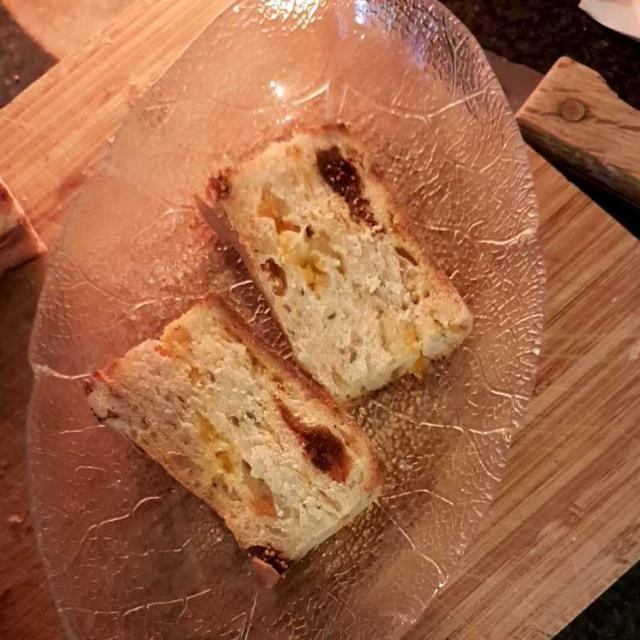bread: (92, 309, 366, 568), (209, 137, 469, 398)
